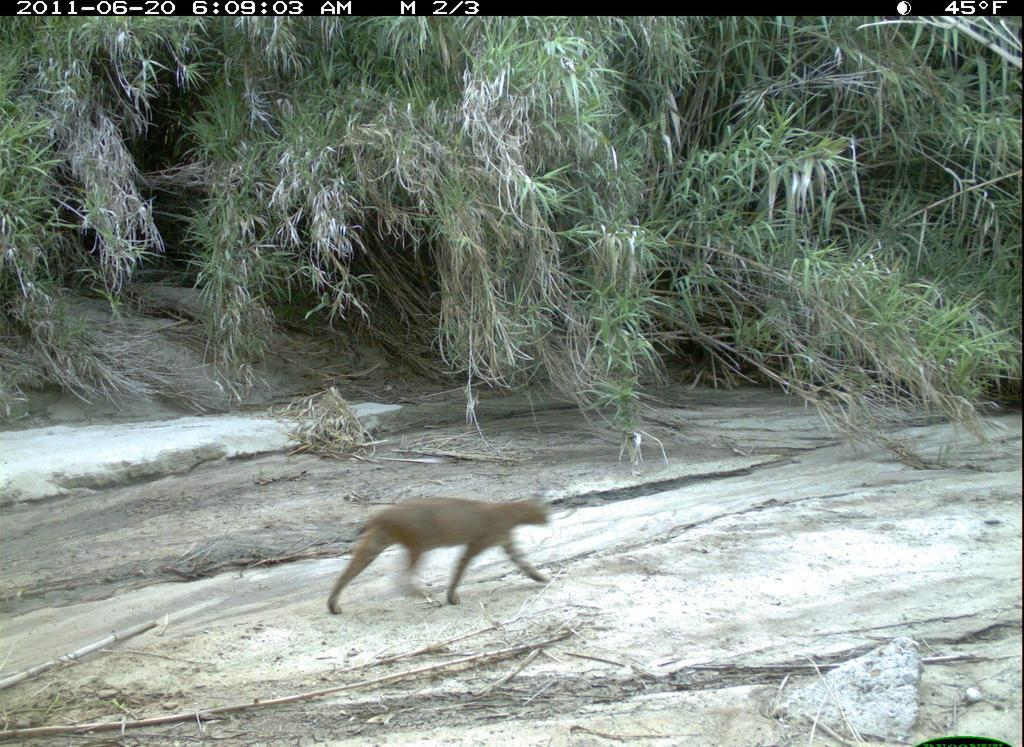bobcat: (310, 482, 570, 637)
